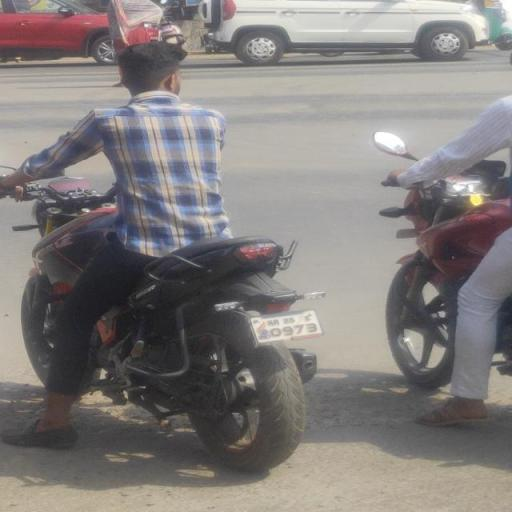bike: (0, 42, 339, 478)
numberplate: (245, 302, 323, 348)
withouthelmet: (124, 45, 184, 92)
